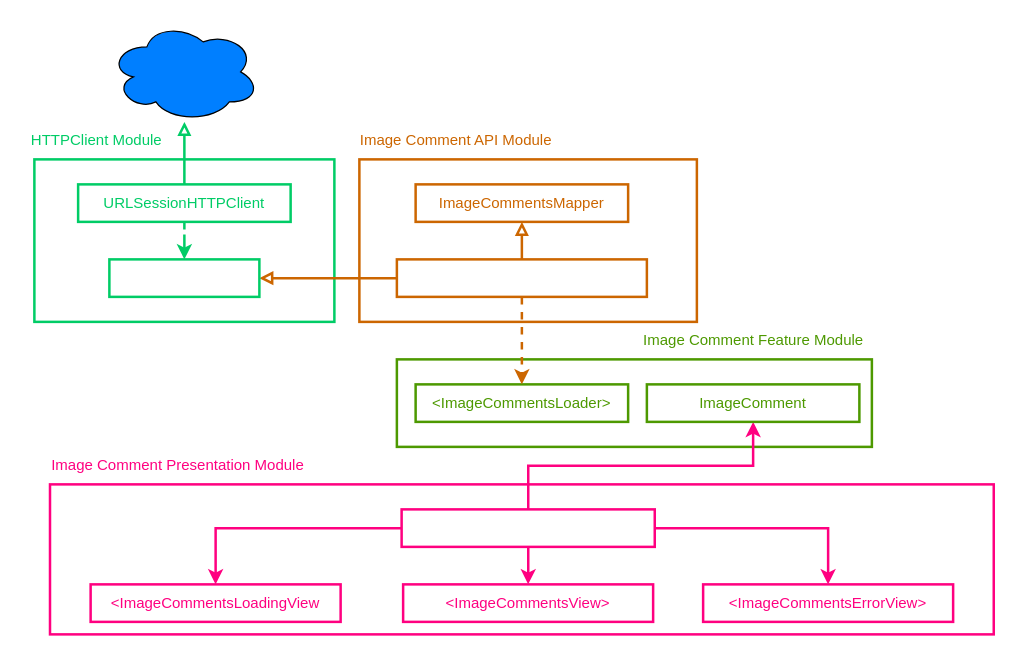
Image size: 1016x658. Some labels were removed from this diagram. The shapes that lost their labels are listed below. From the top down, each one's box as (x1, y1, x2, y2) in pixels, then its label:
(108, 258, 260, 298): <HTTPClient>
(395, 258, 648, 298): RemoteImageCommentsLoader
(400, 508, 655, 548): ImageCommentsPresenter
